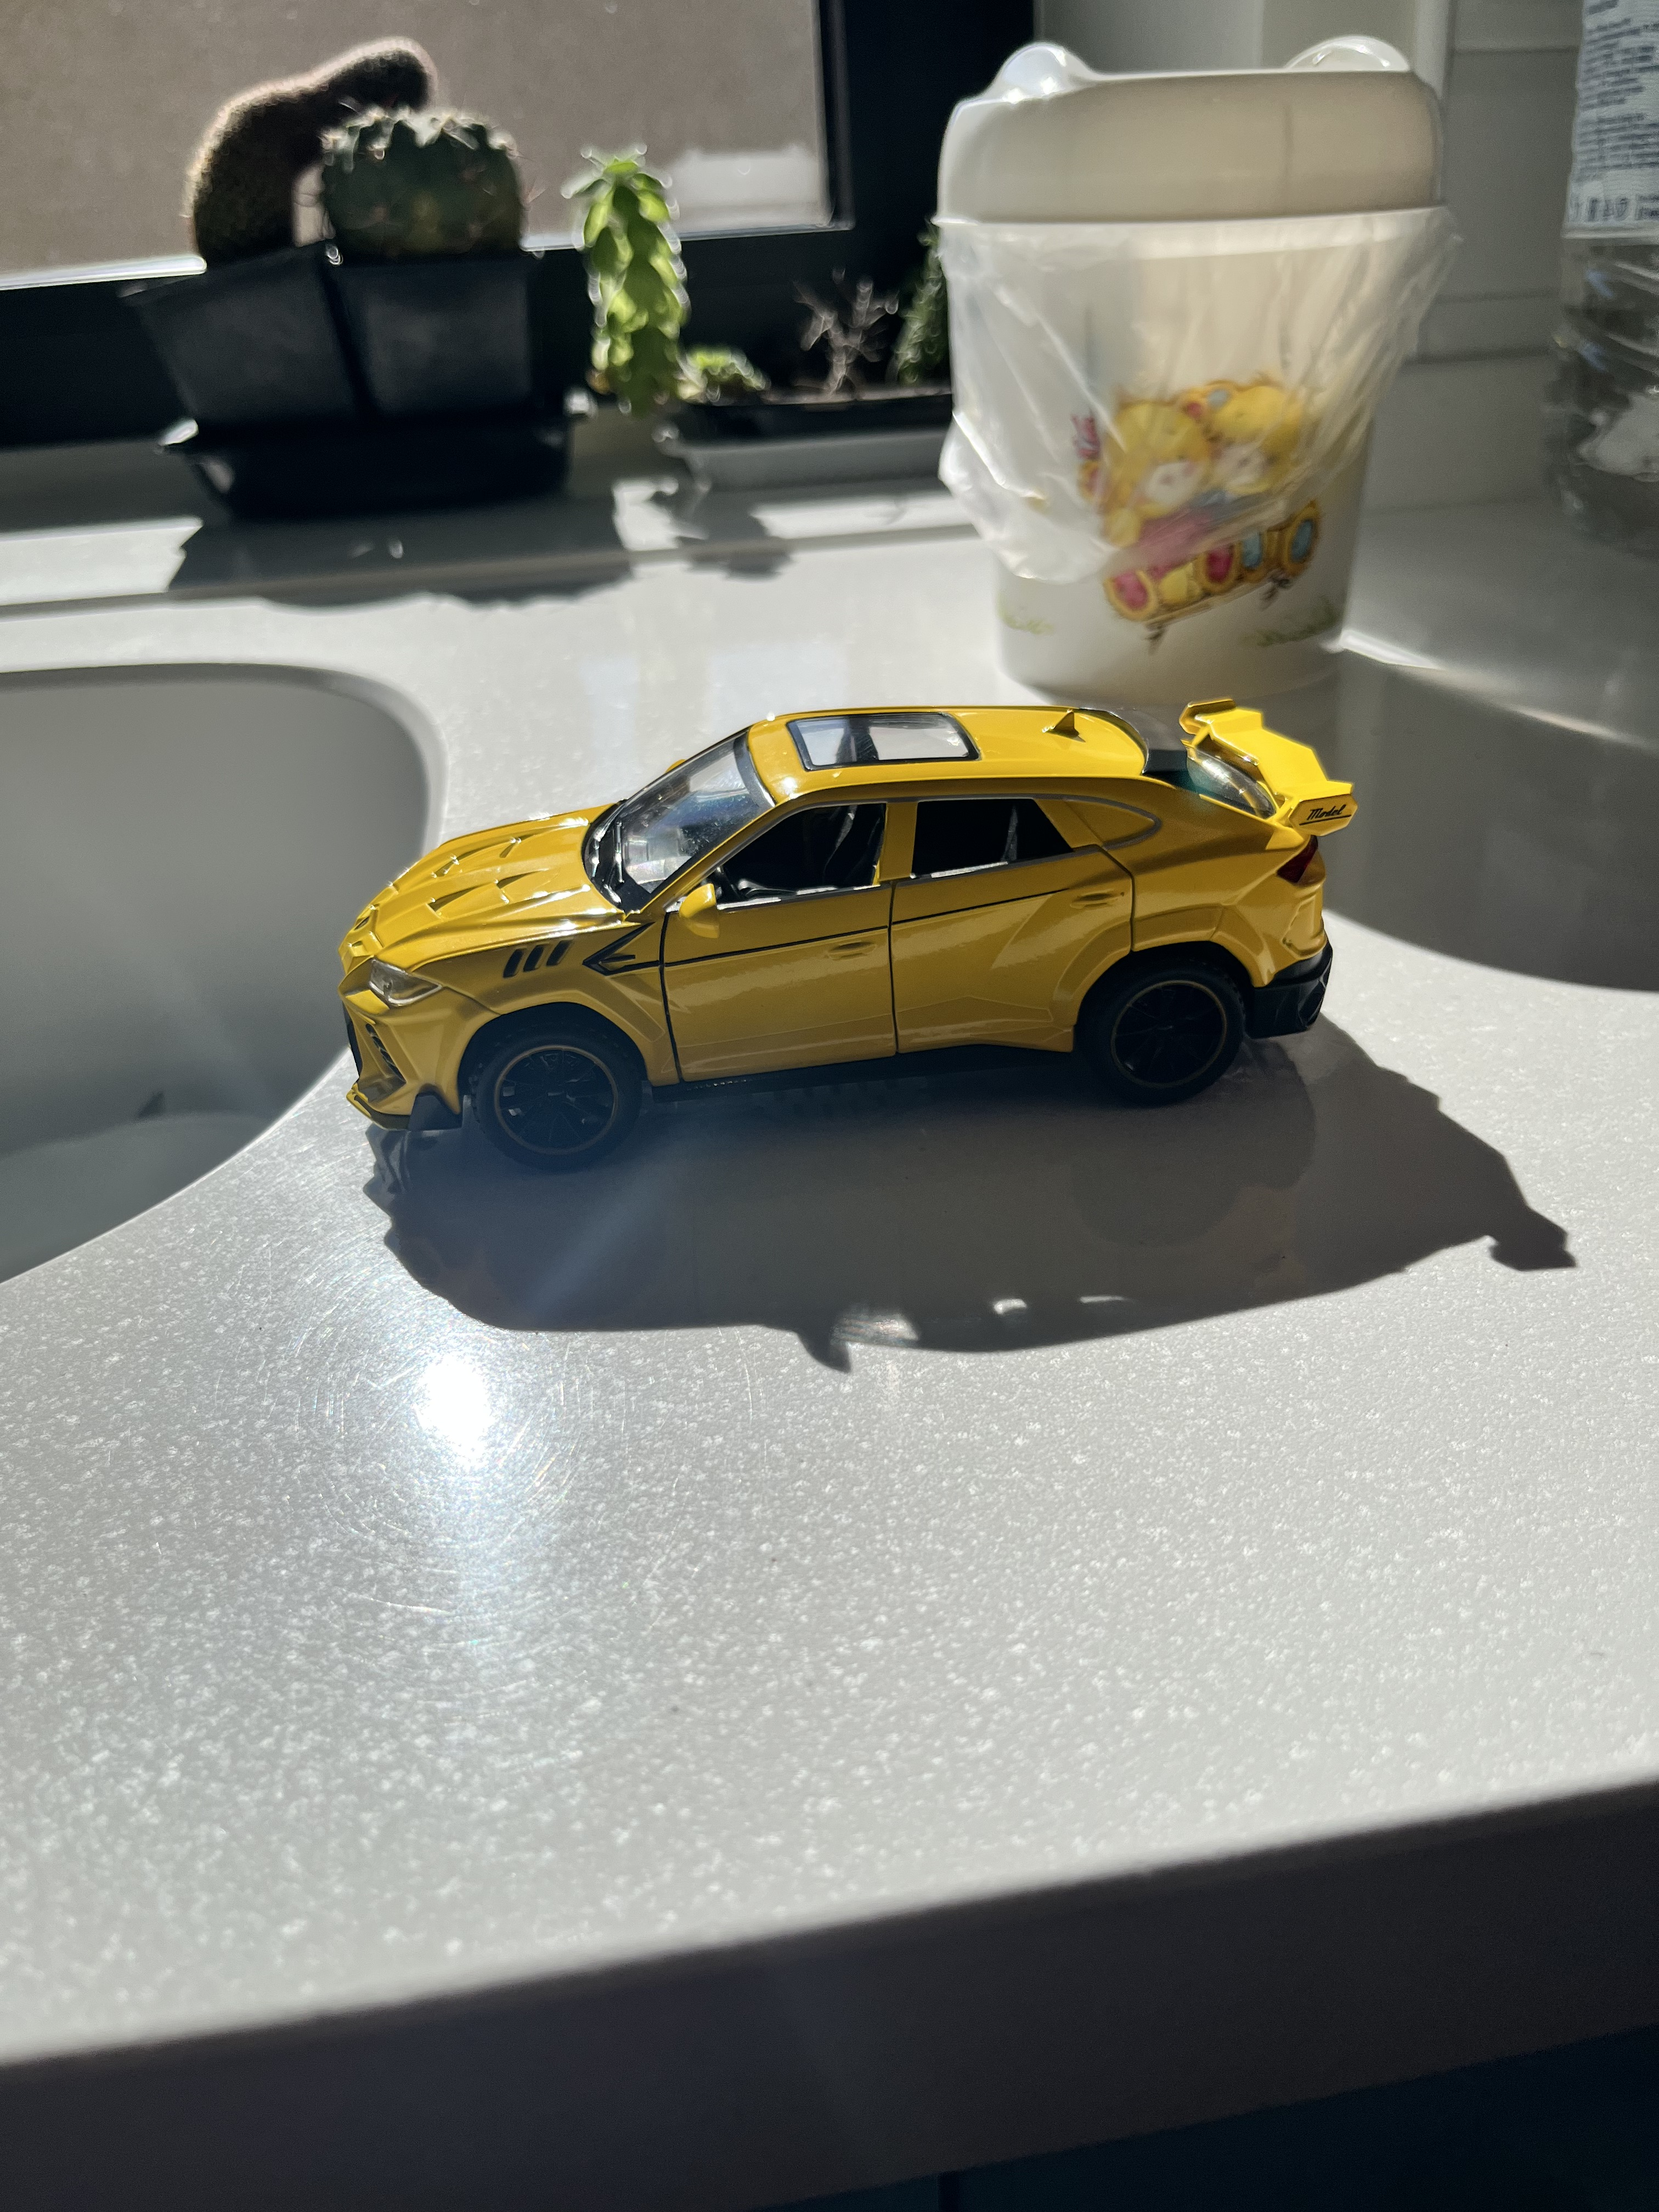lambo: (336, 700, 1356, 1170)
